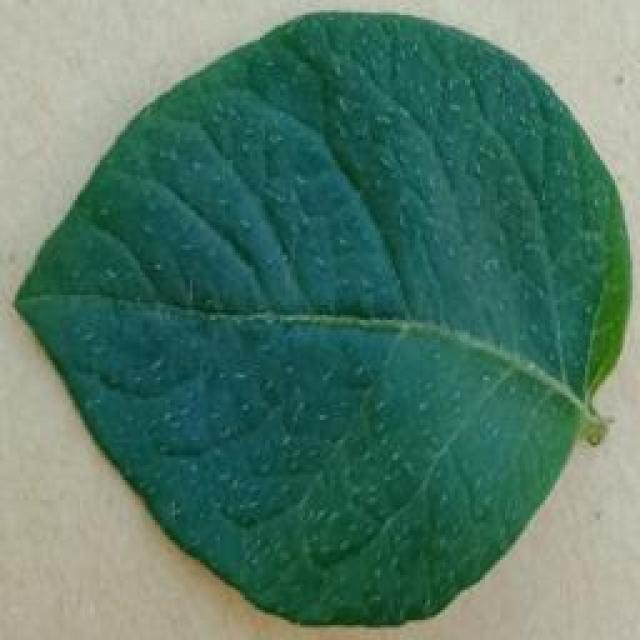Potato_Healthy: (9, 11, 621, 625)
